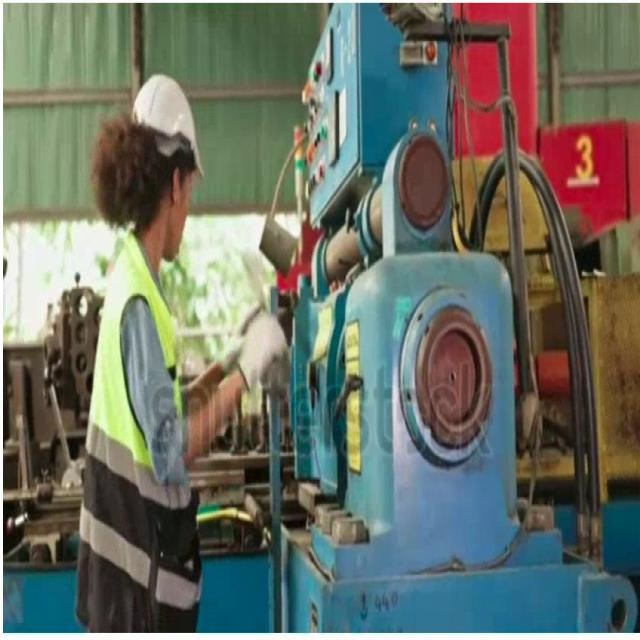gloved: (237, 308, 291, 394)
